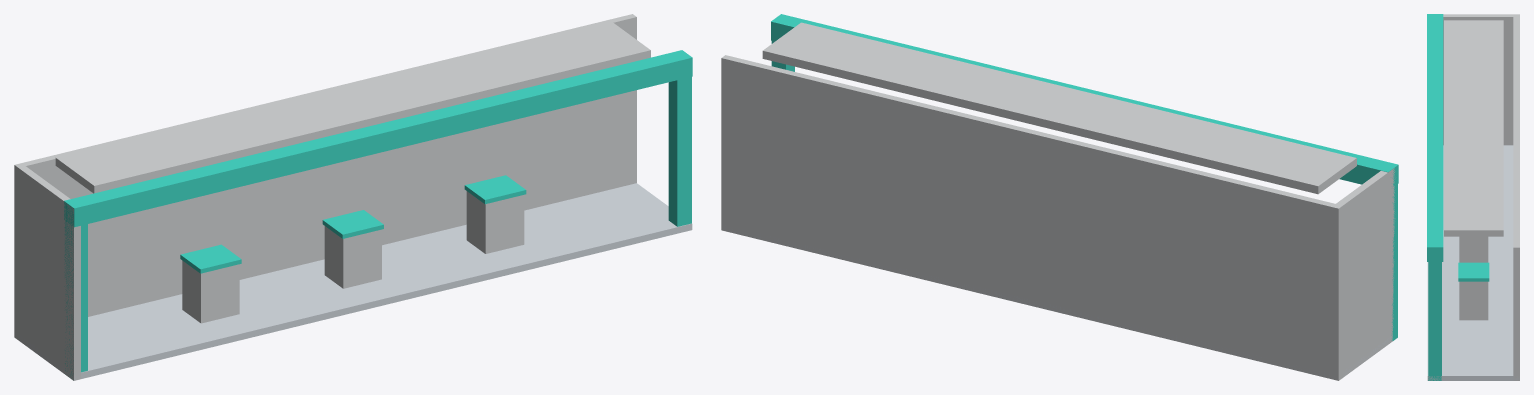
The picture shows the model from 3 angles, left to right: view 1: azimuth 30°, elevation 25°; view 2: azimuth 150°, elevation 25°; view 3: azimuth 270°, elevation 25°; orthographic projection. The views are drawn at different scales.
Parts seen in each view (by area): view 1: Exhibition Booth Concept; view 2: Exhibition Booth Concept; view 3: Exhibition Booth Concept.
Part boxes in pixels (<box>): Exhibition Booth Concept: <box>14,14,692,380</box>; Exhibition Booth Concept: <box>721,14,1398,380</box>; Exhibition Booth Concept: <box>1427,14,1519,380</box>.
Bounding box in the file's own units: 12 × 3.34 × 2.01.
